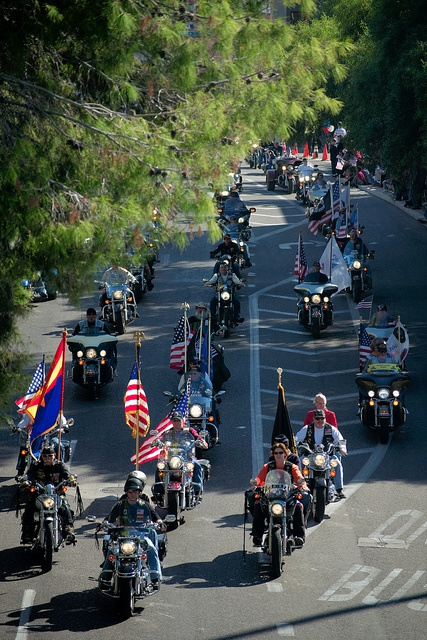non-vehicle: (85, 515, 175, 618), (248, 470, 305, 577), (354, 353, 410, 445), (25, 477, 74, 576), (150, 432, 202, 520), (295, 439, 347, 521), (65, 332, 118, 399), (93, 269, 136, 334), (201, 277, 247, 337), (168, 396, 217, 452), (292, 281, 339, 338), (343, 237, 375, 302)
